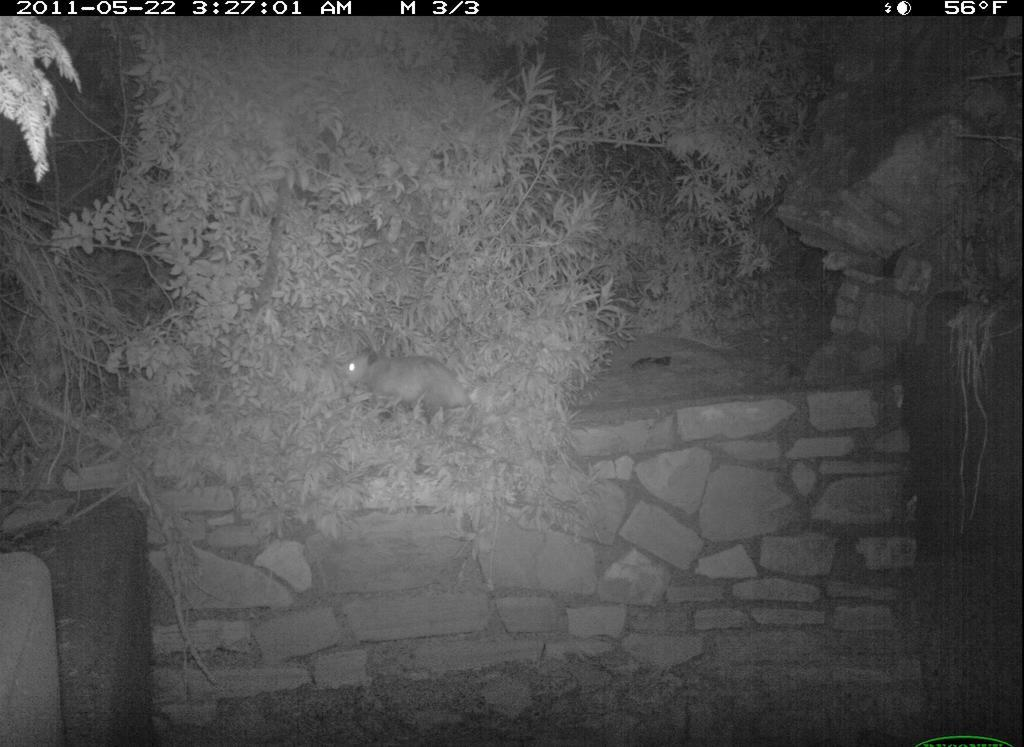opossum: (292, 331, 533, 459)
